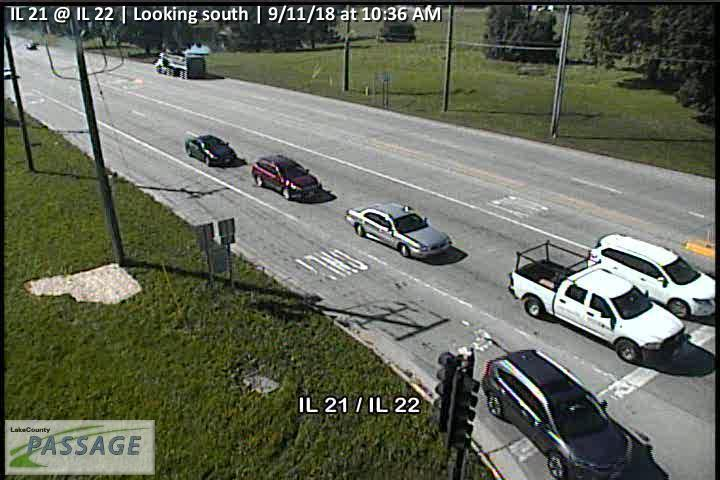SUV: (481, 349, 634, 480), (589, 233, 715, 320), (251, 155, 323, 200)
Sedan: (345, 201, 453, 259), (185, 134, 238, 166)
Truck: (507, 239, 690, 369), (154, 50, 206, 79)
